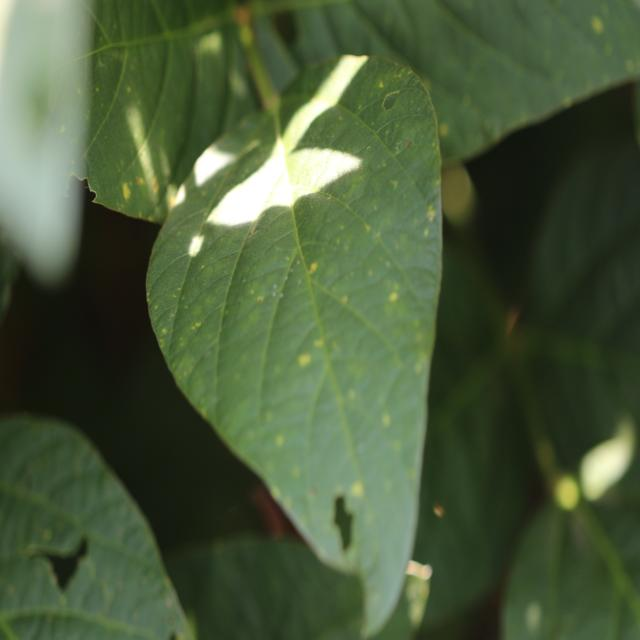Soybean: (0, 0, 640, 640)
downey_mildew: (286, 176, 427, 444), (248, 272, 352, 503), (215, 198, 308, 437), (425, 358, 529, 555), (124, 9, 194, 198), (505, 2, 639, 99), (77, 19, 139, 185), (446, 2, 569, 79), (89, 2, 200, 78), (194, 125, 275, 222), (282, 228, 359, 323), (177, 227, 250, 319), (111, 548, 187, 632), (150, 234, 206, 346), (187, 26, 230, 168), (237, 218, 303, 310), (283, 145, 362, 210), (0, 557, 75, 622), (297, 104, 373, 161), (104, 509, 158, 565)
